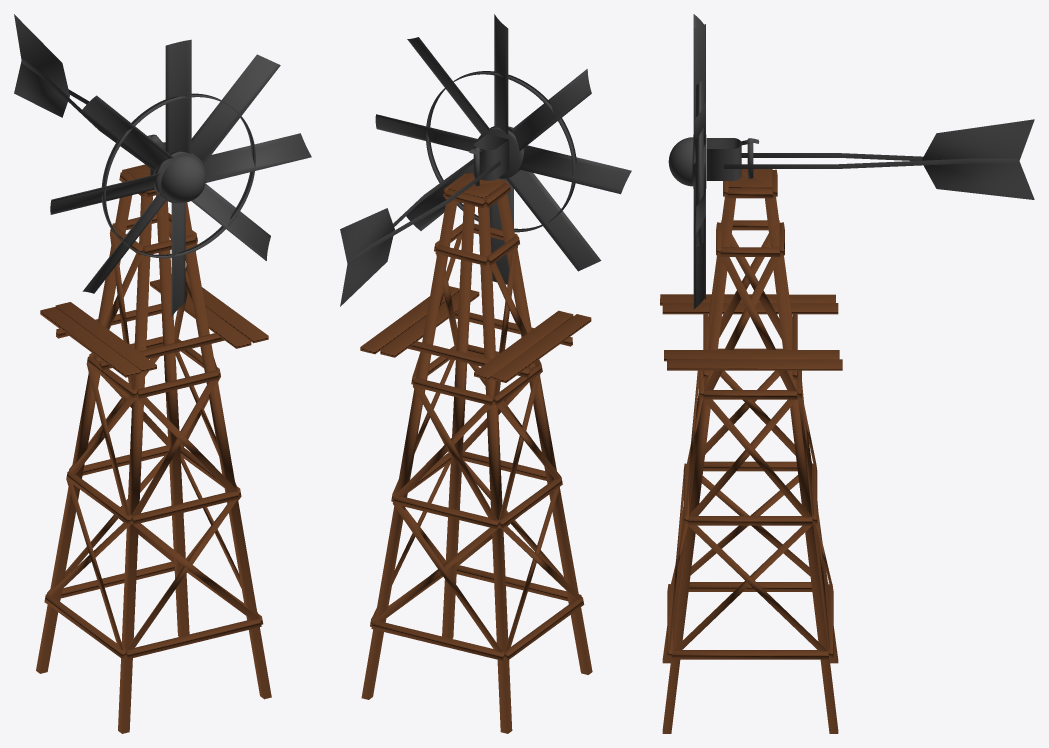
Rendered from windmill.glb.
The picture shows the model from 3 angles, left to right: view 1: azimuth 30°, elevation 25°; view 2: azimuth 150°, elevation 25°; view 3: azimuth 270°, elevation 25°; orthographic projection. The views are drawn at different scales.
Visible parts, largest first — view 1: Tower, Fan, Blade; view 2: Tower, Fan, Blade; view 3: Tower, Blade, Fan.
Part boxes in pixels (box(x1,y1,x2,y2)): Tower: box(36, 164, 271, 733); Fan: box(50, 39, 311, 316); Blade: box(14, 14, 141, 161); Tower: box(360, 172, 592, 733); Fan: box(375, 14, 631, 284); Blade: box(340, 159, 500, 306); Tower: box(660, 169, 842, 733); Blade: box(724, 119, 1034, 199); Fan: box(668, 14, 759, 309).
Bounding box in the file's own units: 69.66 × 169 × 85.31.
